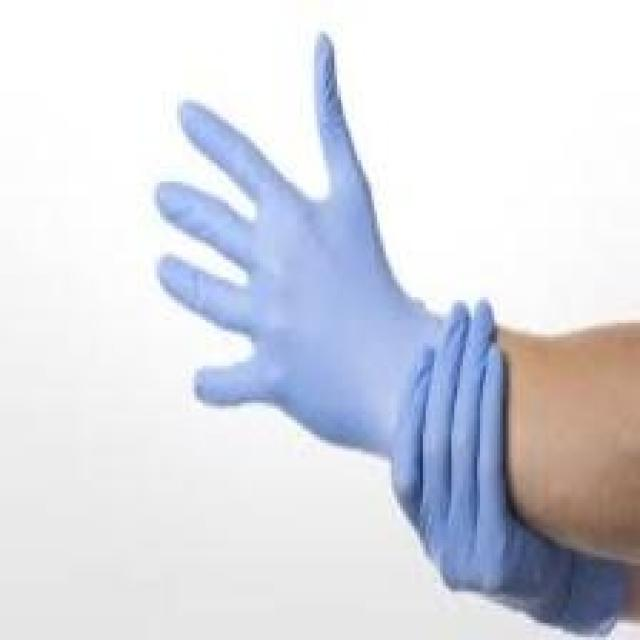Glove: (156, 9, 640, 639)
